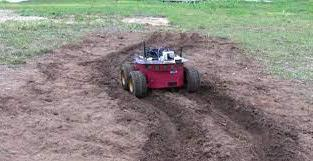vehicle_track: (187, 90, 275, 161), (142, 99, 189, 161)
